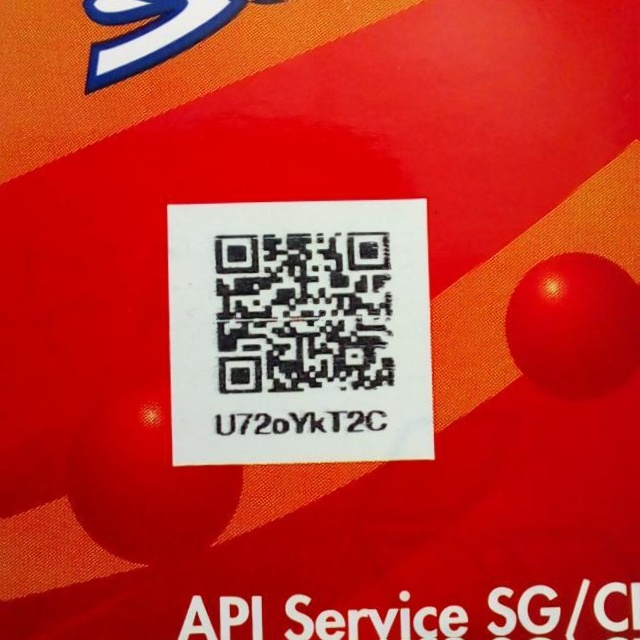qr-code: (203, 223, 406, 398)
